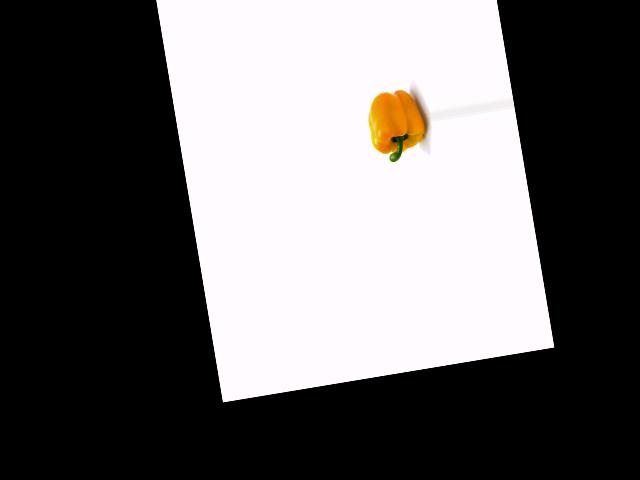bell_pepper: (361, 84, 430, 171)
